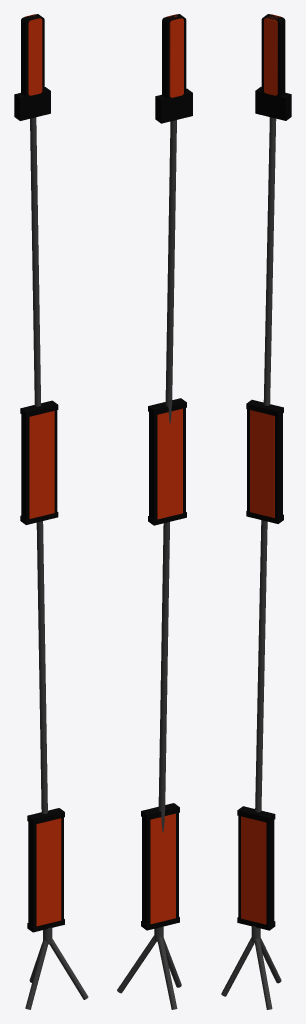
3 renders of one model, left to right at view 1: azimuth 30°, elevation 25°; view 2: azimuth 210°, elevation 25°; view 3: azimuth 330°, elevation 25°, orthographic. The views are drawn at different scales.
Parts seen in each view (by area): view 1: shaft, red_face, red_face.001, frame, frame.001, red_face.002, head_frame, collar.002, leg_a, leg_b, bottom_collar.001, collar.001 (+2 smaller); view 2: shaft, red_face.001, red_face, frame, frame.001, red_face.002, collar.002, head_frame, leg_c, leg_b, bottom_collar.001, collar.001 (+3 smaller); view 3: shaft, red_face, red_face.001, frame, frame.001, red_face.002, head_frame, collar.002, leg_b, leg_a, bottom_collar.001, leg_c (+3 smaller).
Part boxes in pixels (left/top/right/bottom): shaft: left=30, top=117, right=47, bottom=813; red_face: left=36, top=818, right=61, bottom=926; red_face.001: left=29, top=411, right=54, bottom=518; frame: left=28, top=808, right=63, bottom=926; frame.001: left=21, top=410, right=57, bottom=519; red_face.002: left=25, top=14, right=42, bottom=95; head_frame: left=21, top=14, right=44, bottom=96; collar.002: left=14, top=87, right=50, bottom=120; leg_a: left=25, top=940, right=48, bottom=1009; leg_b: left=49, top=938, right=88, bottom=999; bottom_collar.001: left=20, top=400, right=58, bottom=417; collar.001: left=27, top=808, right=64, bottom=824; shaft: left=158, top=120, right=176, bottom=832; red_face.001: left=157, top=408, right=182, bottom=519; red_face: left=150, top=813, right=175, bottom=924; frame: left=142, top=803, right=178, bottom=924; frame.001: left=149, top=408, right=185, bottom=519; red_face.002: left=166, top=14, right=183, bottom=97; collar.002: left=155, top=88, right=192, bottom=123; head_frame: left=162, top=14, right=186, bottom=98; leg_c: left=157, top=937, right=177, bottom=1009; leg_b: left=117, top=935, right=156, bottom=993; bottom_collar.001: left=148, top=398, right=186, bottom=415; collar.001: left=141, top=803, right=179, bottom=820; shaft: left=255, top=117, right=276, bottom=812; red_face: left=241, top=816, right=266, bottom=924; red_face.001: left=250, top=410, right=274, bottom=517; frame: left=238, top=806, right=274, bottom=924; frame.001: left=247, top=409, right=282, bottom=518; red_face.002: left=264, top=14, right=280, bottom=95; head_frame: left=261, top=14, right=285, bottom=96; collar.002: left=255, top=87, right=291, bottom=120; leg_b: left=254, top=938, right=272, bottom=1009; leg_a: left=221, top=937, right=254, bottom=996; bottom_collar.001: left=246, top=399, right=283, bottom=416; leg_c: left=260, top=938, right=281, bottom=983.
Size of the model in its own units: 0.0913 by 1.5 by 0.0952.
